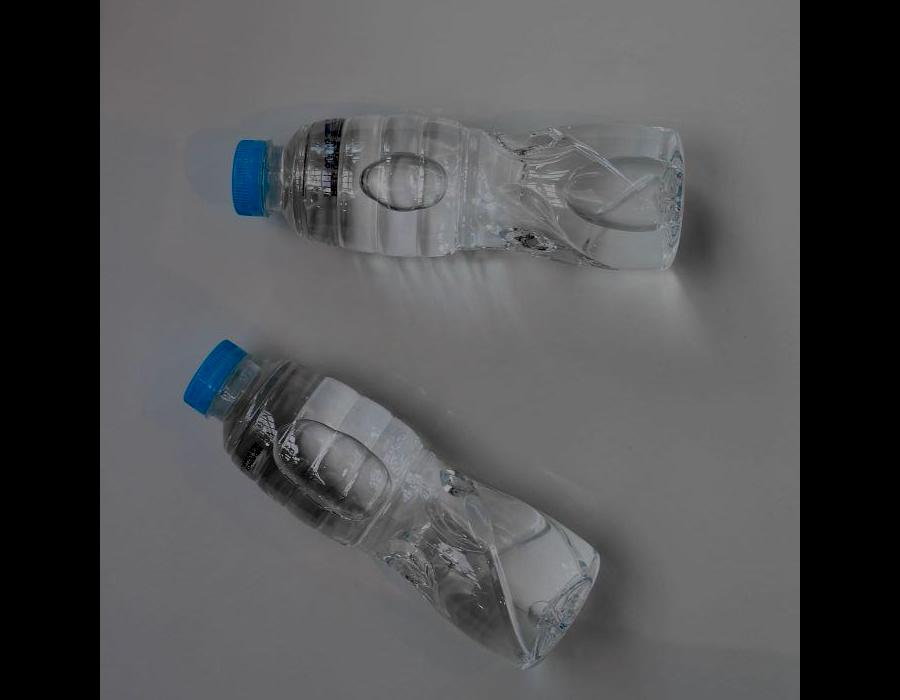bottle: (173, 330, 616, 680), (220, 98, 690, 287)
